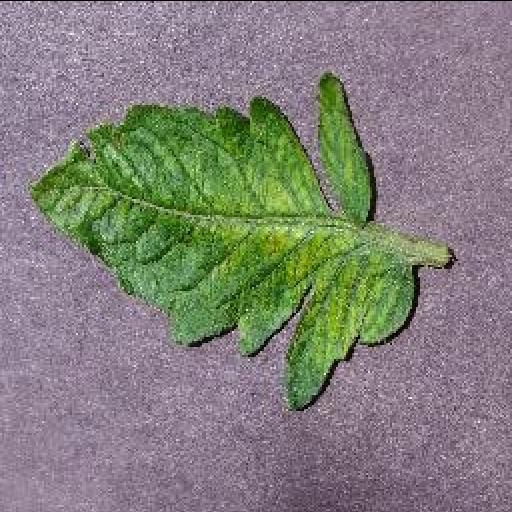disease_tomato: (28, 72, 418, 408)
